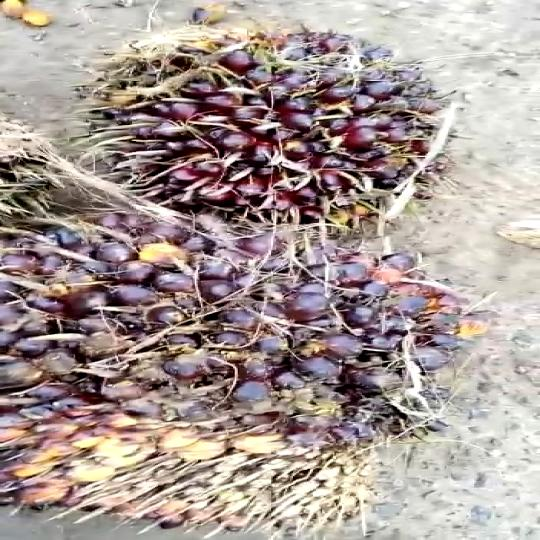kurang masak: (0, 200, 463, 535), (84, 17, 409, 223)
